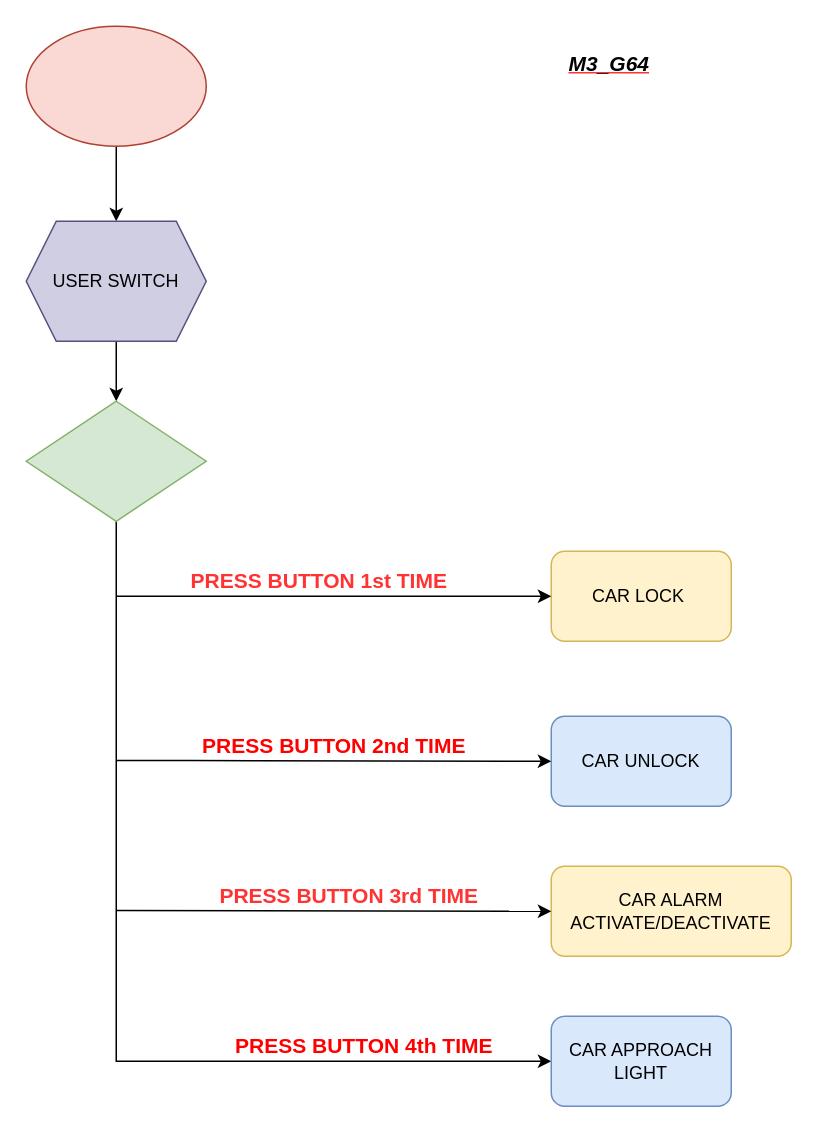
Some shapes in this 818 by 1133 pixel diagram are drawn without their labels. Here are the shapes that lost their labels. From the top down, the centre of each, then its label:
At point 115,85: "START".
At point 115,460: "CONDITION".
